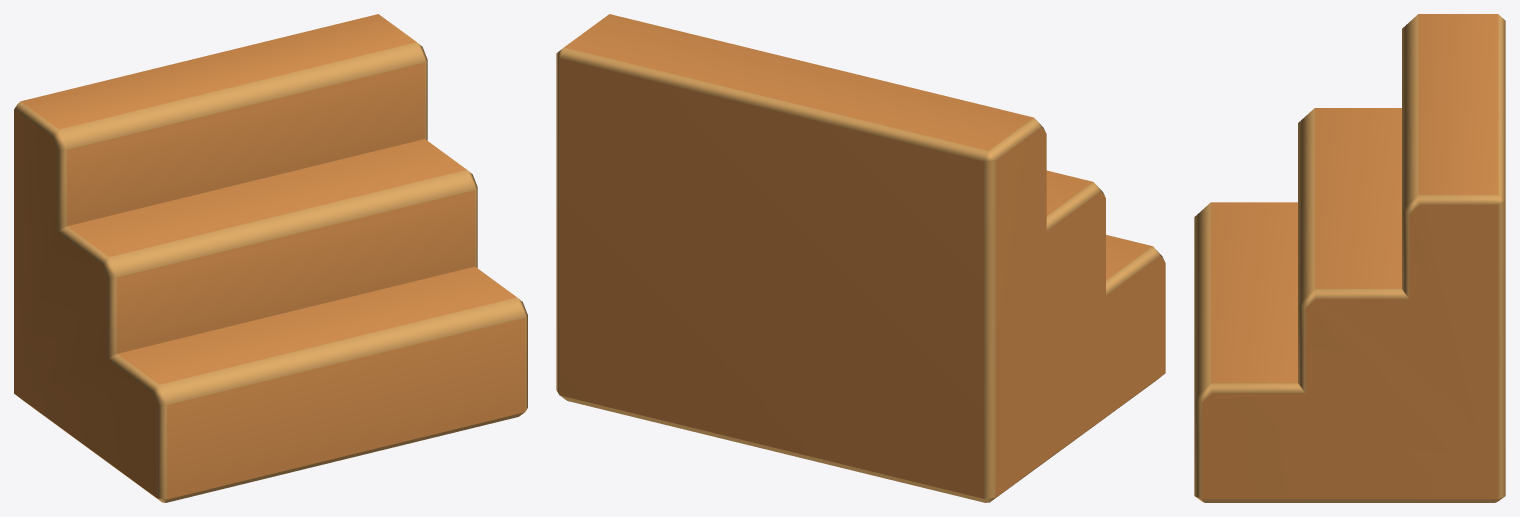
The model's file is Stairs.fbx.
3 views of the same model, side by side, from view 1: azimuth 30°, elevation 25°; view 2: azimuth 150°, elevation 25°; view 3: azimuth 270°, elevation 25° (orthographic). The views are drawn at different scales.
Visible parts, largest first — view 1: Cube.035; view 2: Cube.035; view 3: Cube.035.
Boxes of the visible parts, x1,y1,x2,y2 form: Cube.035: (14,14,527,502); Cube.035: (556,14,1165,502); Cube.035: (1194,14,1505,502).
Bounding box in the file's own units: 55.11 × 42.3 × 38.73.
